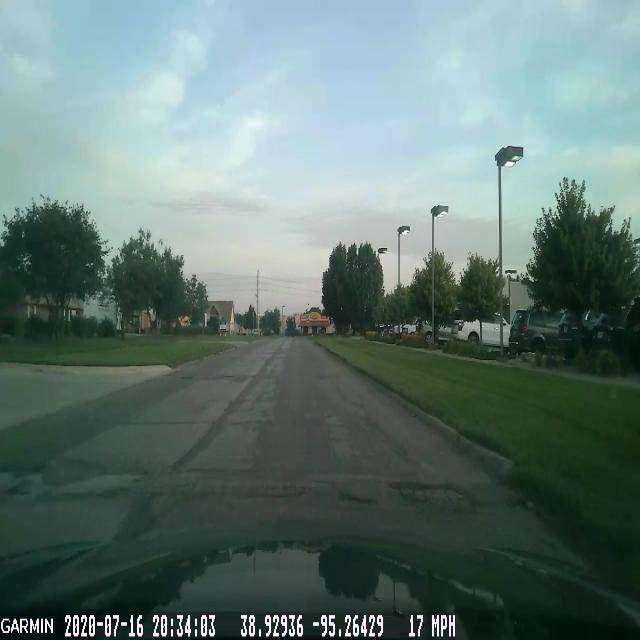pothole: (387, 476, 485, 521)
